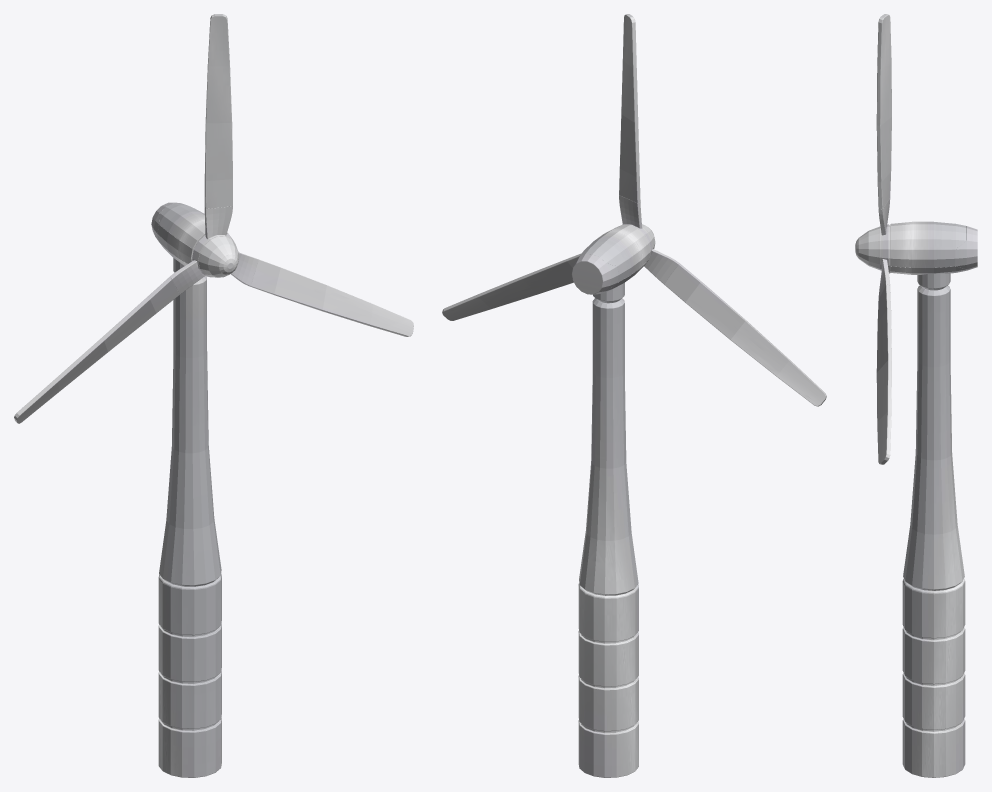
Rendered from Turbina.obj.
3 renders of one model, left to right at view 1: azimuth 30°, elevation 25°; view 2: azimuth 150°, elevation 25°; view 3: azimuth 270°, elevation 25°, orthographic. The views are drawn at different scales.
Visible parts, largest first — view 1: Turbina:cylinder84, Turbina:polymsh_detached134, Turbina:polymsh_extracted67, Turbina:polymsh_extracted72, Turbina:polymsh_extracted71, Turbina:polymsh_extracted65, Turbina:polymsh_detached130, Turbina:polymsh_detached129; view 2: Turbina:cylinder84, Turbina:polymsh_detached134, Turbina:polymsh_extracted71, Turbina:polymsh_extracted67, Turbina:polymsh_extracted72, Turbina:polymsh_extracted65, Turbina:polymsh_detached131, Turbina:polymsh_detached135; view 3: Turbina:cylinder84, Turbina:polymsh_detached134, Turbina:polymsh_extracted67, Turbina:polymsh_extracted65, Turbina:polymsh_extracted72, Turbina:polymsh_detached132, Turbina:polymsh_detached130, Turbina:polymsh_detached131, Turbina:polymsh_detached133, Turbina:polymsh_extracted66, Turbina:polymsh_detached129, Turbina:polymsh_detached136.
Part boxes in pixels (x1,y1,x2,y2): Turbina:cylinder84: (159, 276, 221, 586); Turbina:polymsh_detached134: (158, 573, 221, 777); Turbina:polymsh_extracted67: (204, 14, 232, 208); Turbina:polymsh_extracted72: (249, 259, 413, 336); Turbina:polymsh_extracted71: (14, 277, 179, 423); Turbina:polymsh_extracted65: (159, 203, 228, 265); Turbina:polymsh_detached130: (198, 236, 239, 277); Turbina:polymsh_detached129: (204, 206, 232, 239); Turbina:cylinder84: (579, 298, 638, 595); Turbina:polymsh_detached134: (578, 583, 638, 777); Turbina:polymsh_extracted71: (664, 263, 826, 406); Turbina:polymsh_extracted67: (619, 14, 640, 202); Turbina:polymsh_extracted72: (442, 253, 581, 320); Turbina:polymsh_extracted65: (579, 224, 648, 293); Turbina:polymsh_detached131: (571, 254, 618, 294); Turbina:polymsh_detached135: (644, 249, 679, 283); Turbina:cylinder84: (903, 285, 964, 590); Turbina:polymsh_detached134: (902, 578, 965, 777); Turbina:polymsh_extracted67: (876, 14, 891, 209); Turbina:polymsh_extracted65: (890, 221, 966, 274); Turbina:polymsh_extracted72: (876, 284, 891, 464); Turbina:polymsh_detached132: (890, 249, 955, 267); Turbina:polymsh_detached130: (859, 226, 880, 269); Turbina:polymsh_detached131: (956, 226, 977, 270); Turbina:polymsh_detached133: (917, 273, 950, 290); Turbina:polymsh_extracted66: (855, 224, 890, 271); Turbina:polymsh_detached129: (878, 198, 890, 235); Turbina:polymsh_detached136: (878, 259, 890, 298).
Bounding box in the file's own units: 4.17 × 7.65 × 1.13.
1 material, 1 textured.
